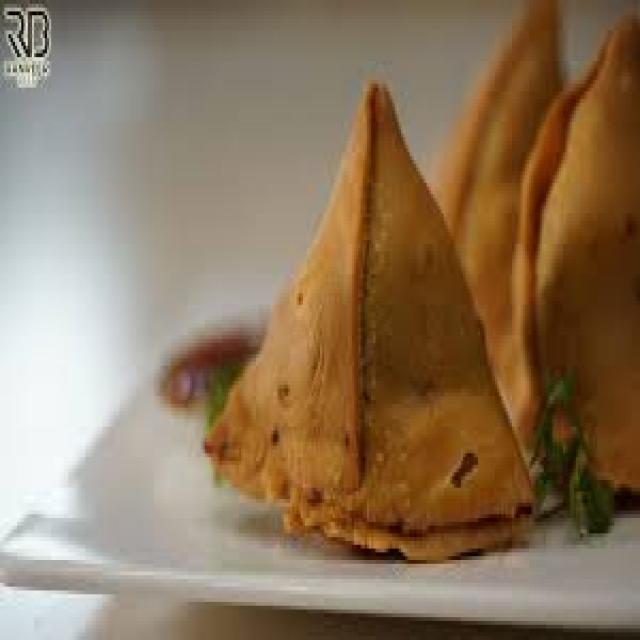SAMOSA: (204, 75, 533, 560), (431, 2, 567, 465), (534, 13, 638, 495)
